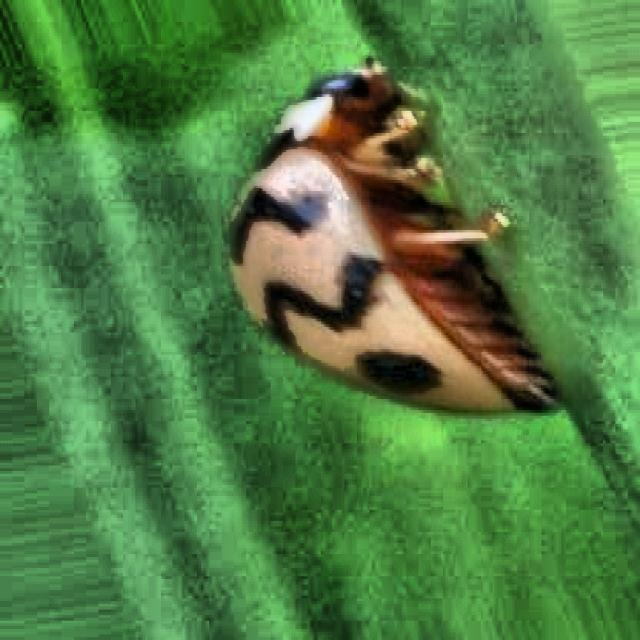Asian-Lady-beetle: (194, 16, 625, 640)
